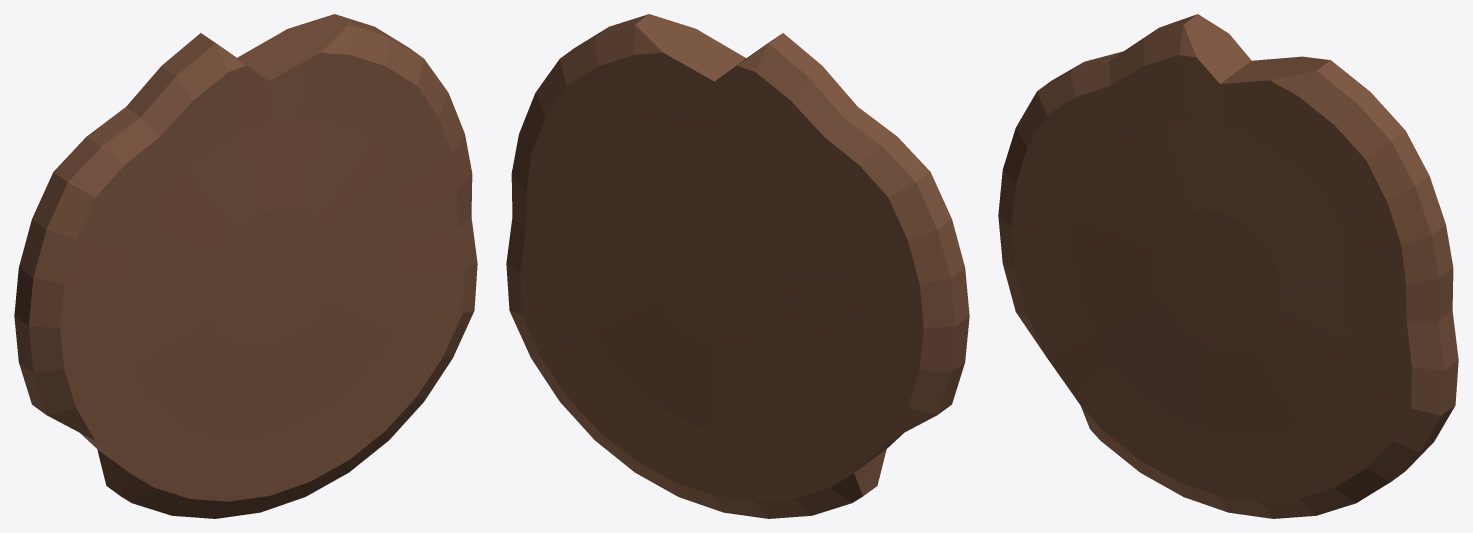
File: sisifus_game_ancient_coin_bronze.fbx
3 renders of one model, left to right at view 1: azimuth 30°, elevation 25°; view 2: azimuth 150°, elevation 25°; view 3: azimuth 330°, elevation 25°, orthographic.
Parts seen in each view (by area): view 1: Cylinder; view 2: Cylinder; view 3: Cylinder.
Part boxes in pixels (box(x1,y1,x2,y2)): Cylinder: box(14, 14, 477, 518); Cylinder: box(506, 14, 969, 518); Cylinder: box(998, 14, 1458, 518).
Size of the model in its own units: 194 by 198 by 26.15.
